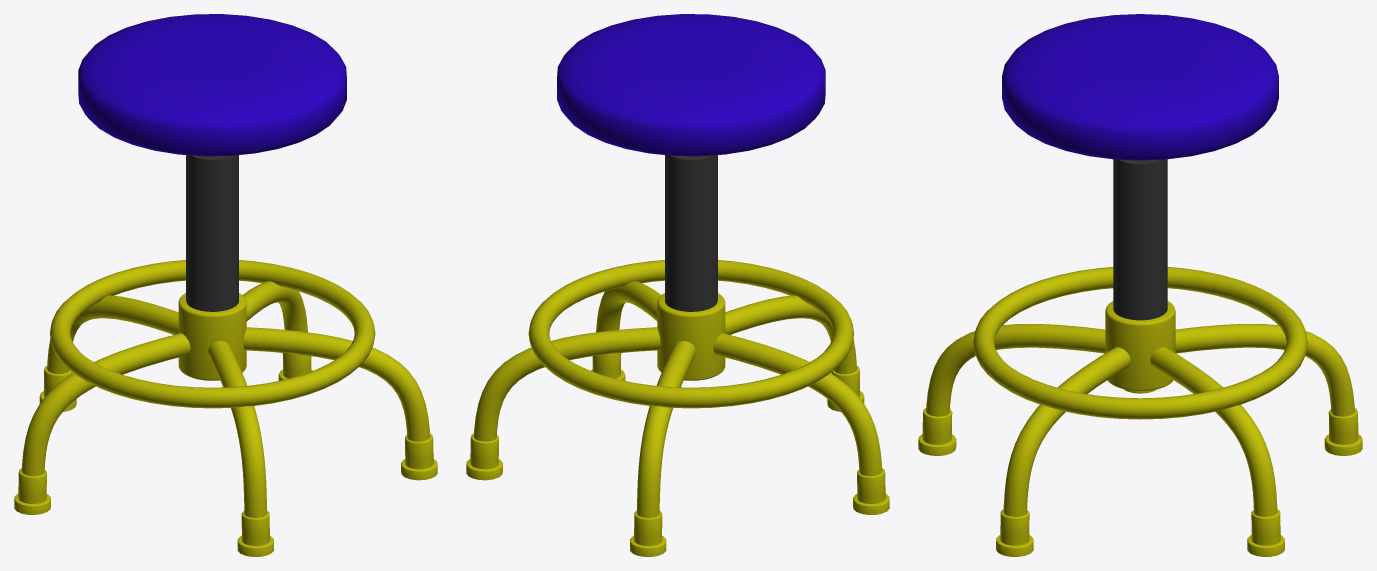
The model's file is PH_TABOURET_2_.fbx.
The picture shows the model from 3 angles, left to right: view 1: azimuth 30°, elevation 25°; view 2: azimuth 150°, elevation 25°; view 3: azimuth 270°, elevation 25°; orthographic projection. The views are drawn at different scales.
Parts seen in each view (by area): view 1: BOTOM, TOP; view 2: BOTOM, TOP; view 3: BOTOM, TOP.
Boxes of the visible parts, x1,y1,x2,y2 form: BOTOM: [14, 155, 437, 556]; TOP: [78, 14, 346, 156]; BOTOM: [466, 155, 889, 556]; TOP: [557, 14, 825, 156]; BOTOM: [918, 159, 1362, 556]; TOP: [1002, 14, 1278, 160].
Bounding box in the file's own units: 59.6 × 64.61 × 62.4.
